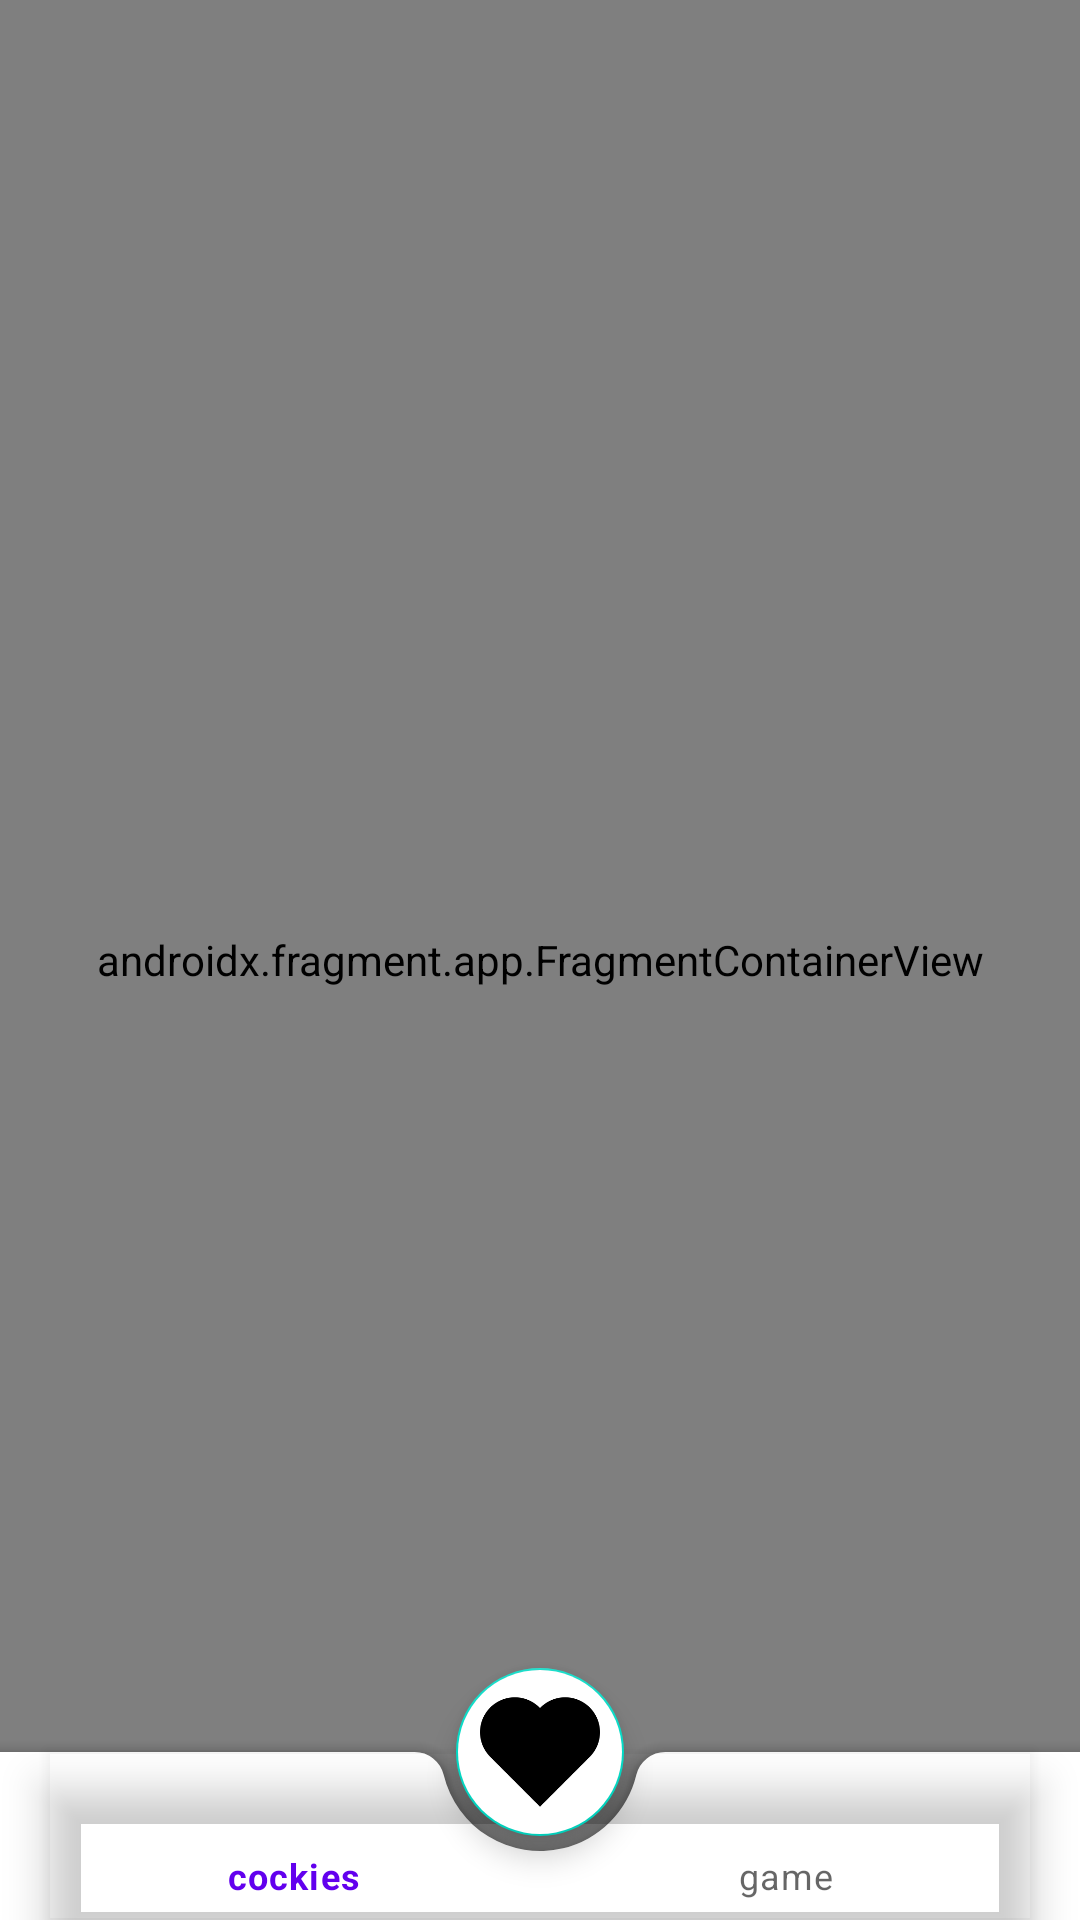

Named icons in this screenshot (1080w x 1920h) and their bounding boxes, [x1, y1, x2, y2]:
heart: [456, 1668, 624, 1836]
